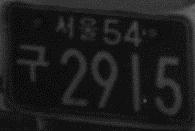1: (121, 54, 151, 113)
2: (59, 48, 88, 108)
4: (123, 20, 141, 47)
5: (153, 54, 183, 115), (102, 18, 122, 46)
9: (89, 50, 119, 108)
구: (15, 43, 49, 83)
서울_O: (52, 15, 98, 43)
